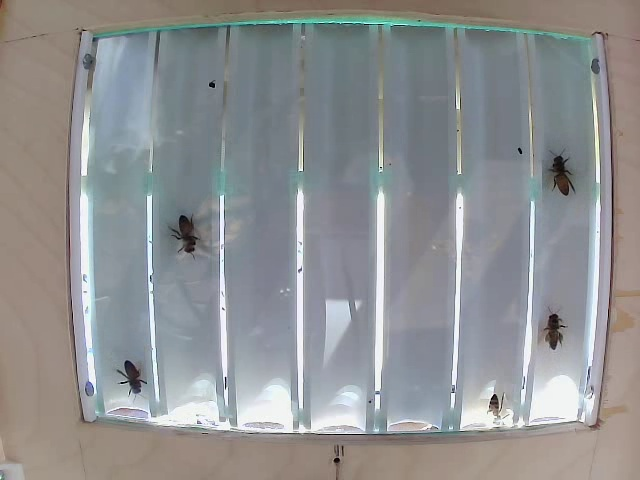bee: (112, 350, 161, 417), (171, 204, 211, 276), (533, 301, 568, 366), (544, 149, 575, 212), (478, 384, 518, 426)
